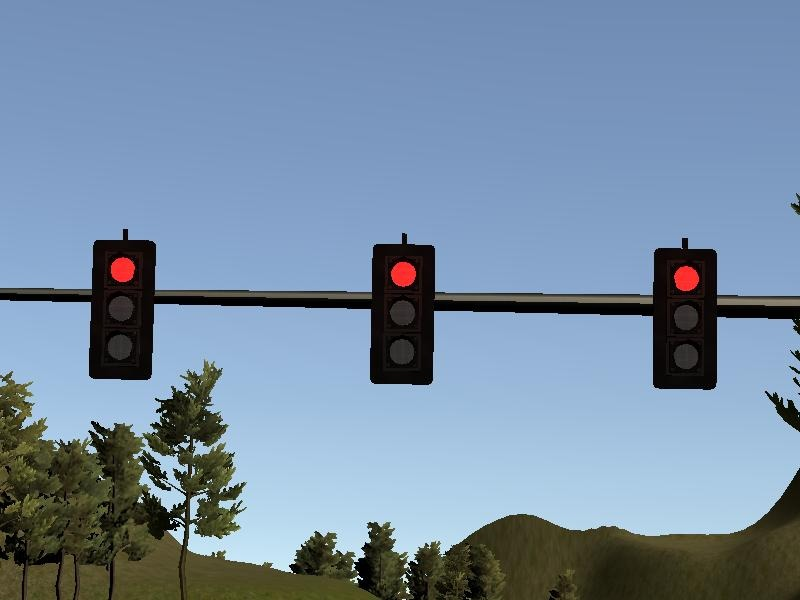red: (89, 239, 155, 382), (651, 246, 717, 389), (371, 243, 437, 386)
